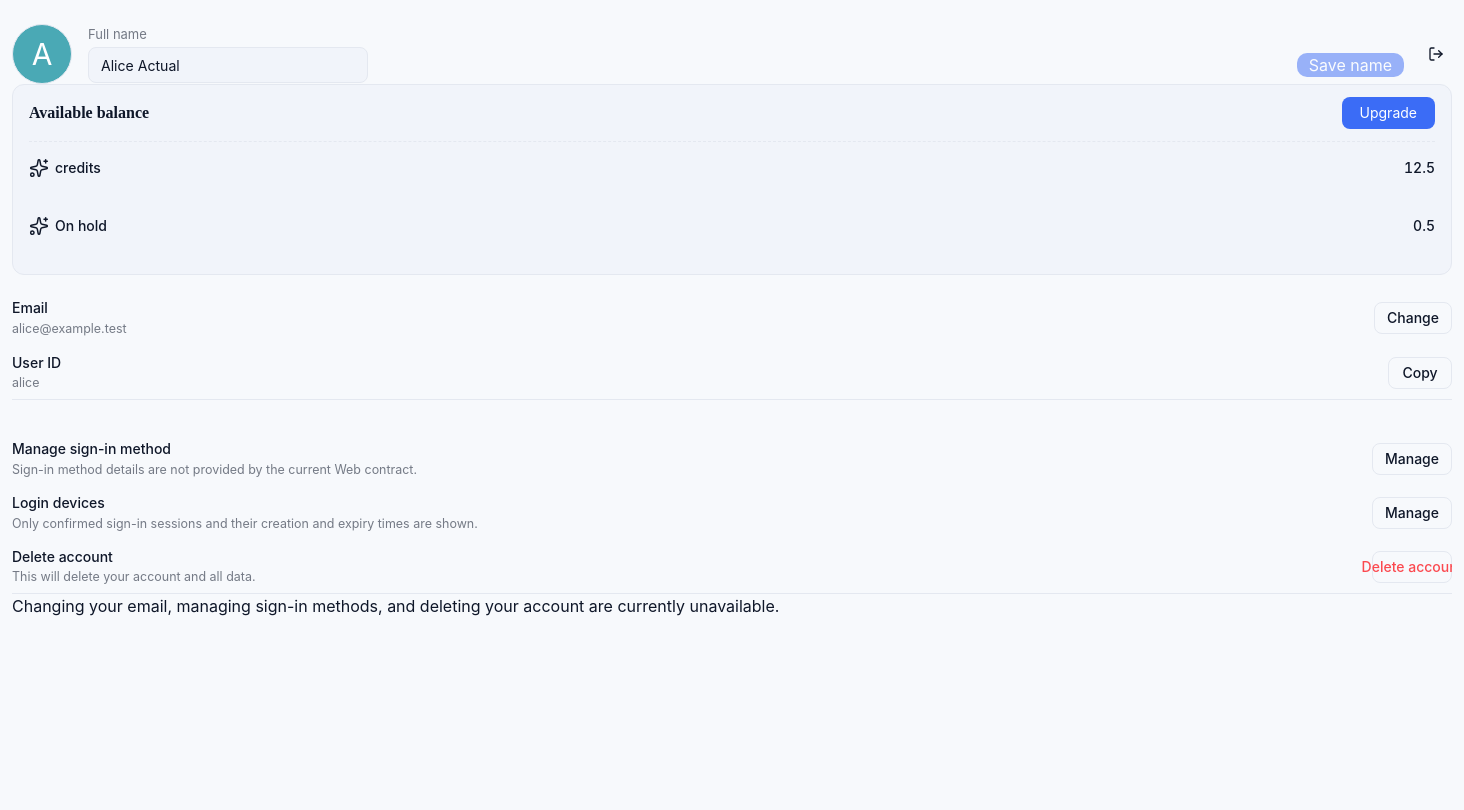
Scenario: saves live name only on explicit action then displays authority from GET
Replace the text in the field named "Full name" with "New Alice" at (228, 65), box [88,47,368,83]
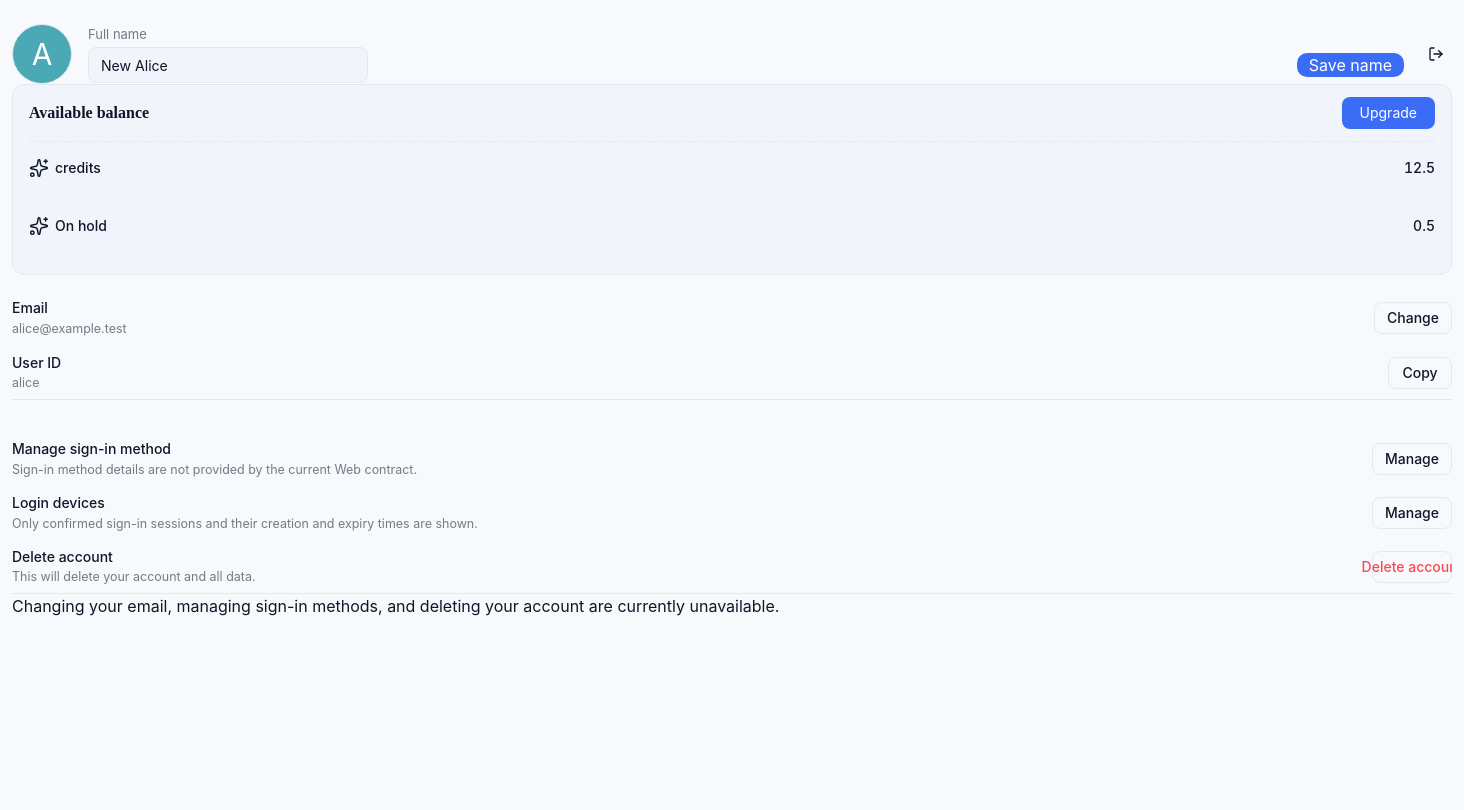
Click the button "Save name".
click(1350, 65)  # box [1297,53,1404,77]
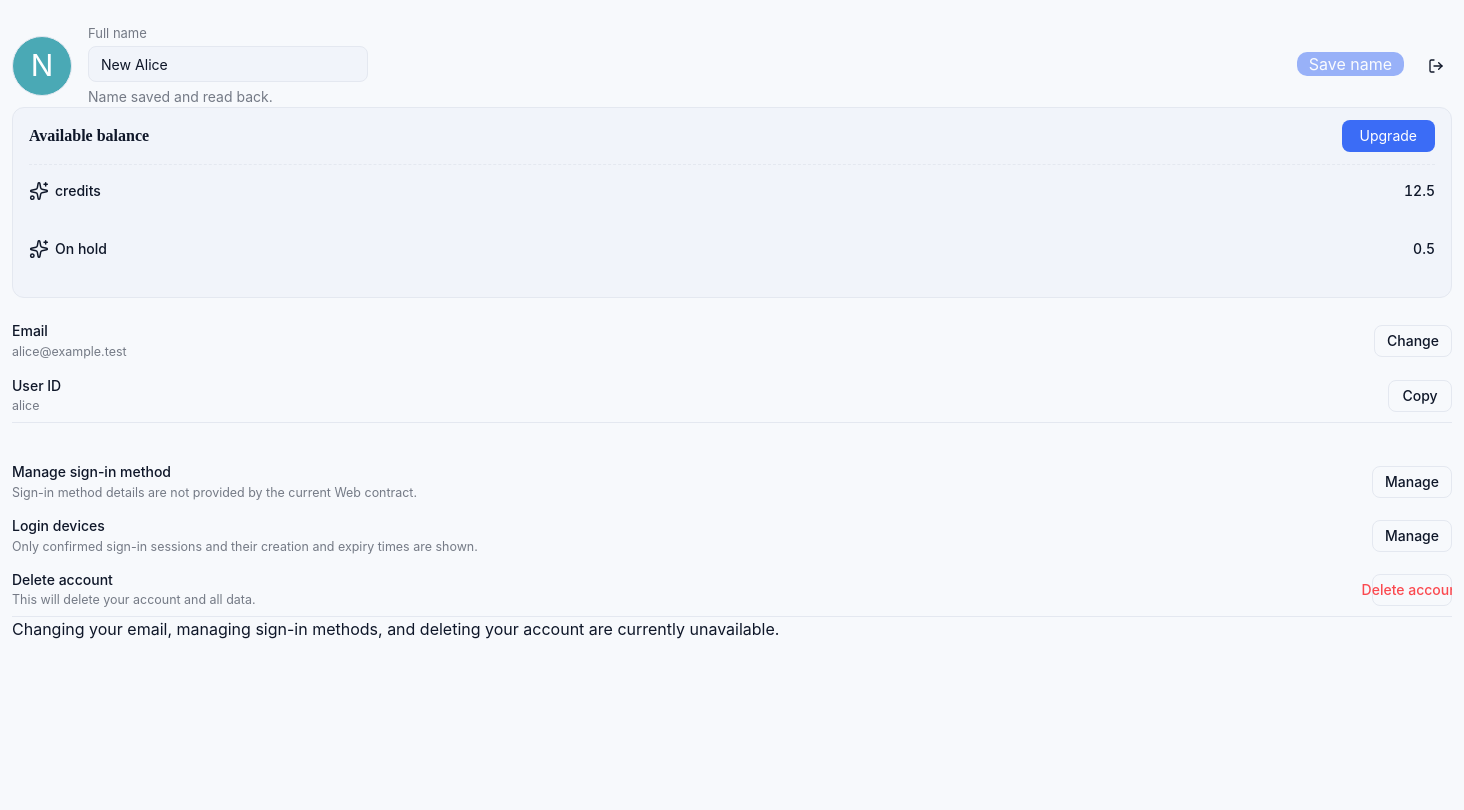
Expected: the text "Name saved and read back." is shown, [88,88,273,105]
